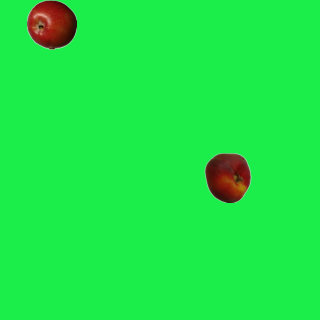Apple Braeburn: (26, 0, 76, 49)
Nectarine Flat: (202, 152, 252, 202)
